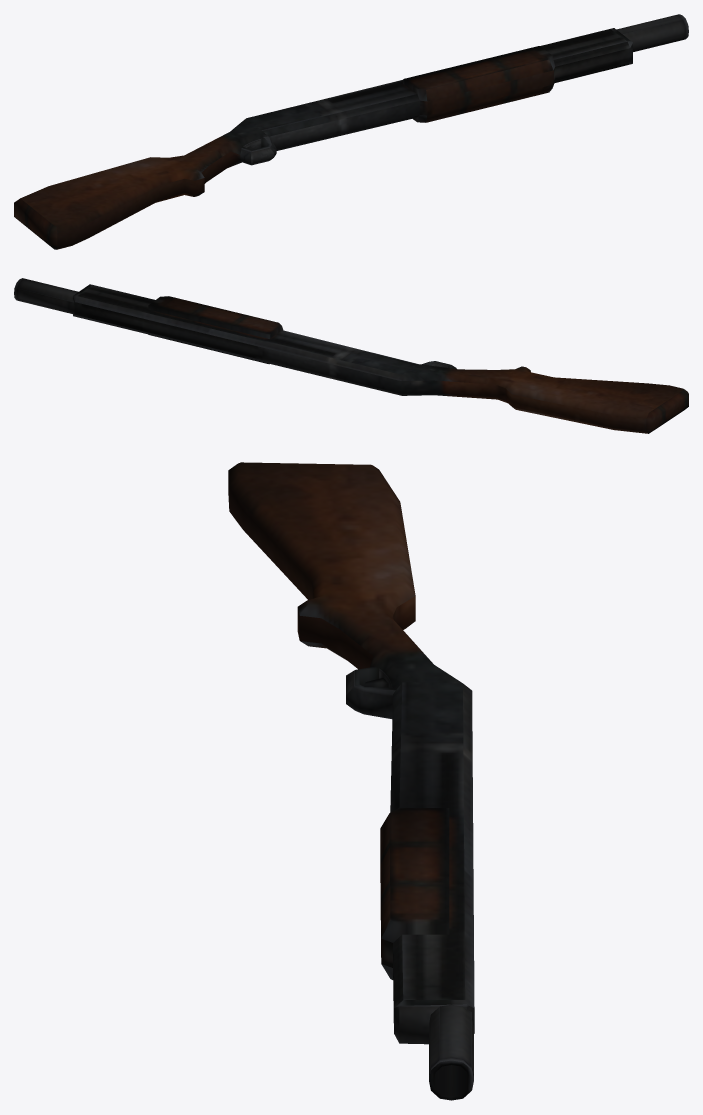
Rendered from shotgun_1.fbx.
The picture shows the model from 3 angles, top to bottom: view 1: azimuth 30°, elevation 25°; view 2: azimuth 150°, elevation 25°; view 3: azimuth 270°, elevation 25°; orthographic projection. The views are drawn at different scales.
Visible parts, largest first — view 1: shotgun_1; view 2: shotgun_1; view 3: shotgun_1.
Boxes of the visible parts, left/top/right/bottom form: shotgun_1: left=14, top=14, right=688, bottom=249; shotgun_1: left=14, top=278, right=688, bottom=433; shotgun_1: left=228, top=462, right=474, bottom=1100.
Size of the model in its own units: 144 by 6.55 by 24.85.
